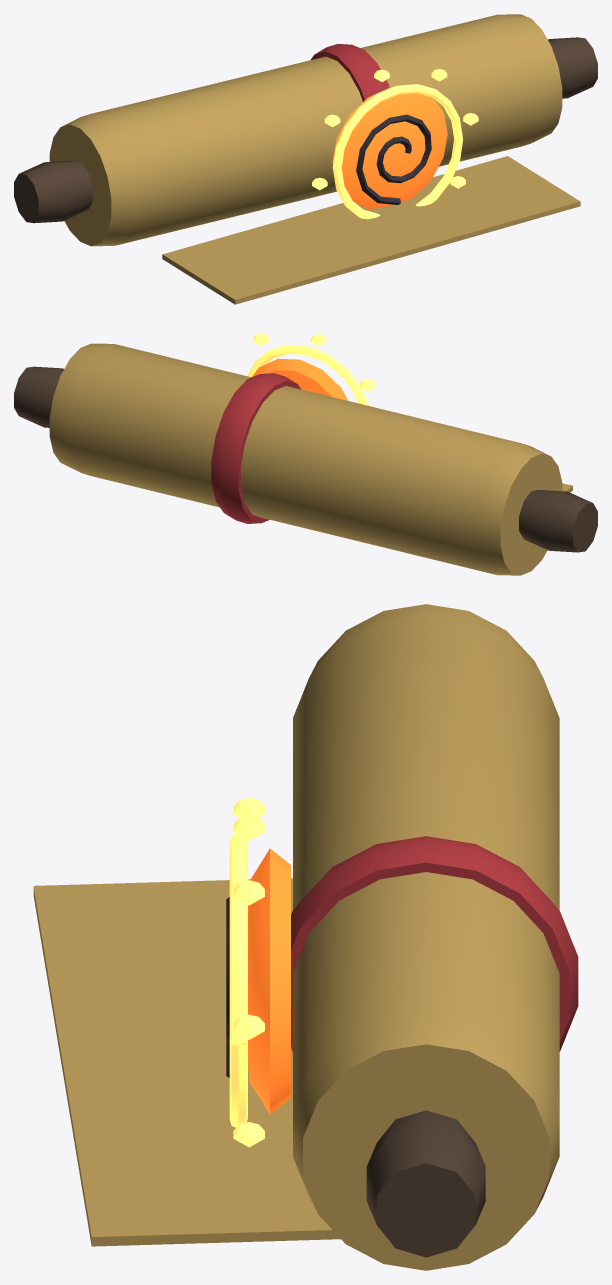
Rendered from recipe_phoenix.glb.
The picture shows the model from 3 angles, top to bottom: view 1: azimuth 30°, elevation 25°; view 2: azimuth 150°, elevation 25°; view 3: azimuth 270°, elevation 25°; orthographic projection. The views are drawn at different scales.
Visible parts, largest first — view 1: recipe_phoenix; view 2: recipe_phoenix; view 3: recipe_phoenix.
Boxes of the visible parts, bbox=[...] form: recipe_phoenix: bbox=[14, 14, 597, 304]; recipe_phoenix: bbox=[14, 333, 597, 575]; recipe_phoenix: bbox=[33, 604, 578, 1270].
Size of the model in its own units: 0.248 by 0.0719 by 0.1046.
